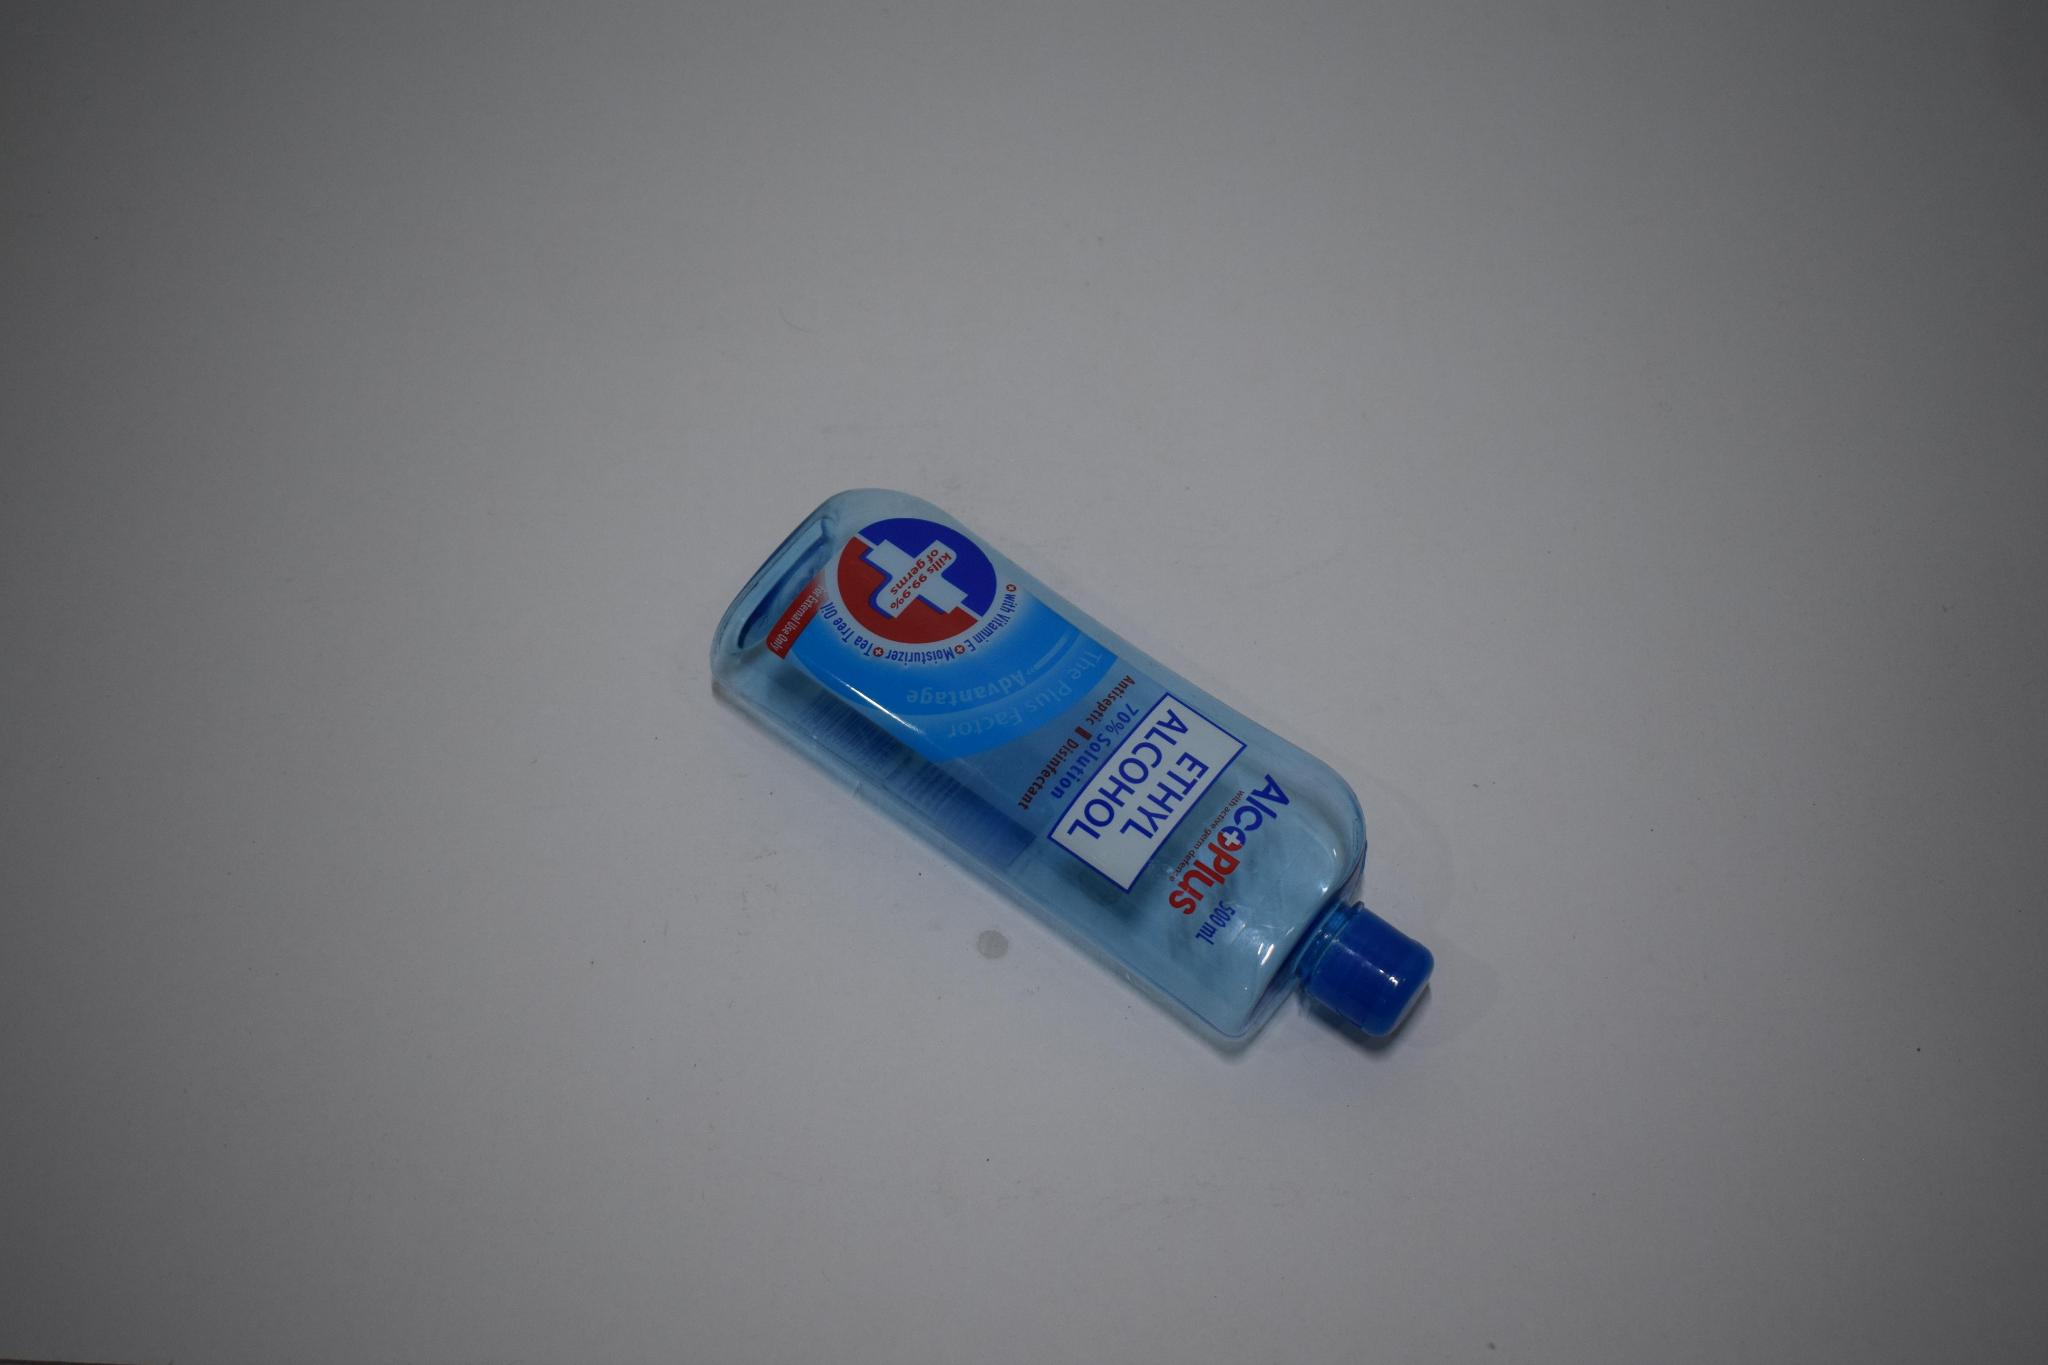bottle: (694, 472, 1480, 1098)
